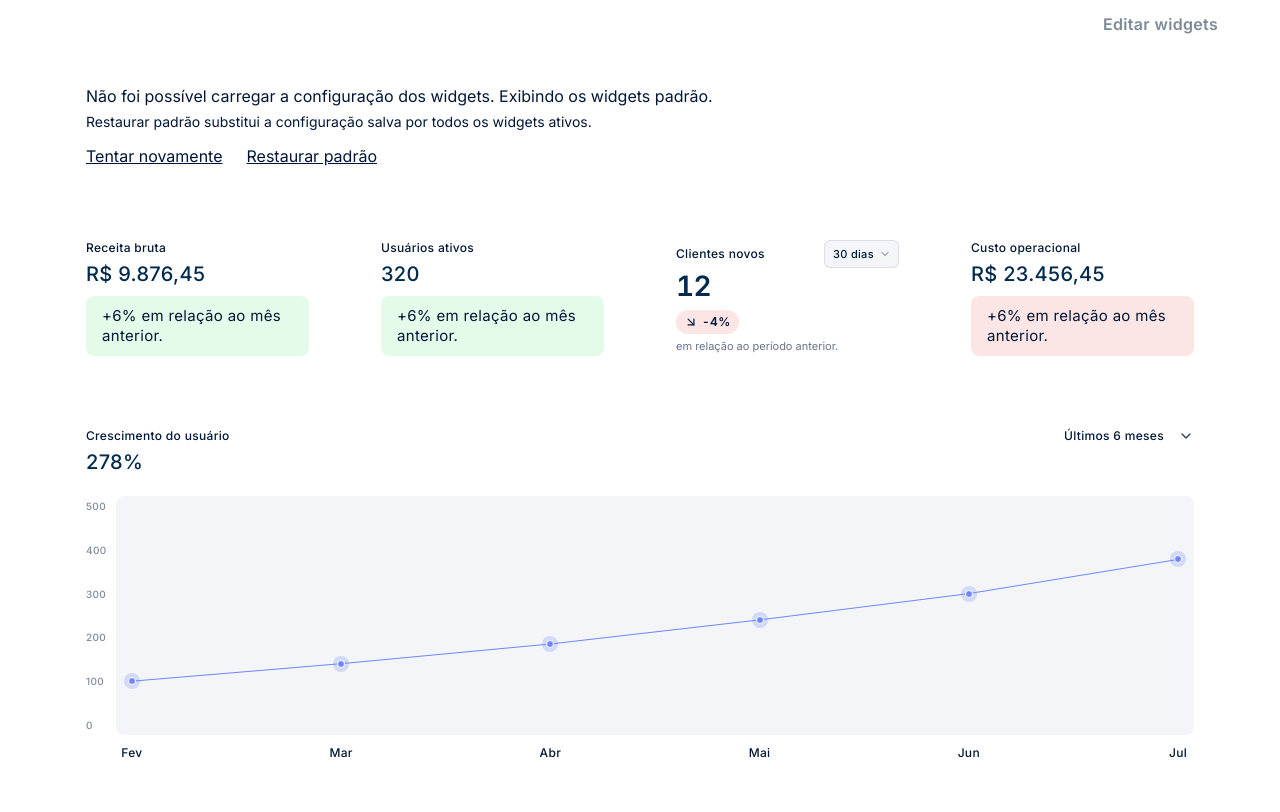
Test case: Configuracao de widgets no dashboard › exibe o padrao quando a leitura falha e recupera sem sobrescrever a configuracao
Check: the message shows "Não foi possível carregar", box [86,86,713,106]
Check: the number of headings is 5, box [86,240,166,256]; [381,240,474,256]; [676,246,765,262]; [971,240,1081,256]; [86,428,230,444]
Click the button "Tentar novamente": (154, 156) [86,144,222,168]
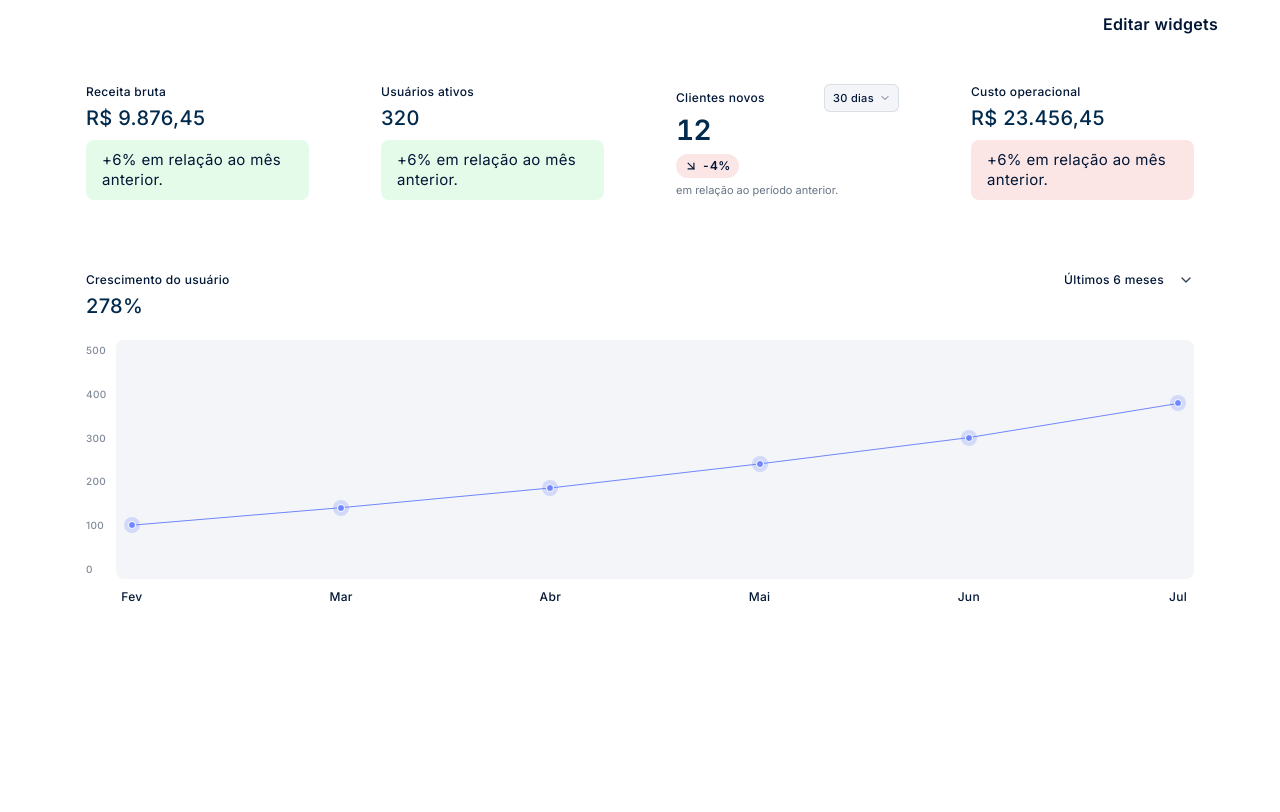
Check: the message is gone
Check: the button "Editar widgets" is enabled, box [1103,12,1218,36]
